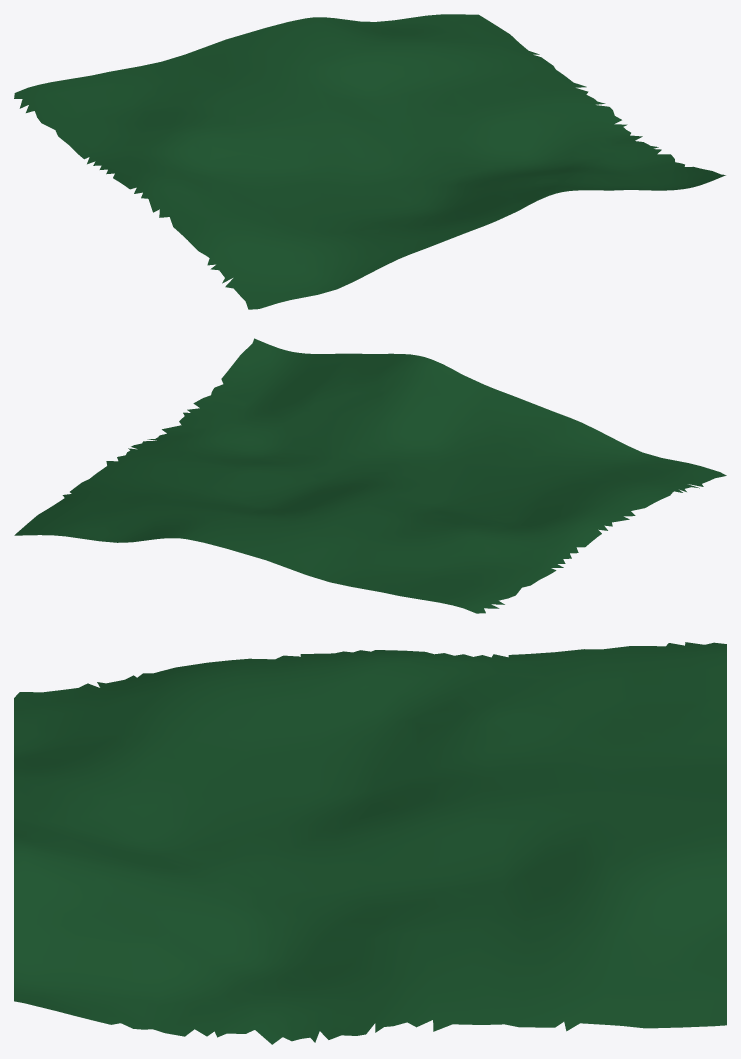
The model's file is payo_land_x1_ym4_lod1.glb.
3 renders of one model, top to bottom at view 1: azimuth 30°, elevation 25°; view 2: azimuth 150°, elevation 25°; view 3: azimuth 270°, elevation 25°, orthographic. The views are drawn at different scales.
Visible parts, largest first — view 1: payo_land_x1_ym4; view 2: payo_land_x1_ym4; view 3: payo_land_x1_ym4.
Boxes of the visible parts, x1,y1,x2,y2 form: payo_land_x1_ym4: [14, 14, 725, 309]; payo_land_x1_ym4: [14, 338, 726, 613]; payo_land_x1_ym4: [14, 642, 726, 1044].
Bounding box in the file's own units: 263 × 26.36 × 231.
